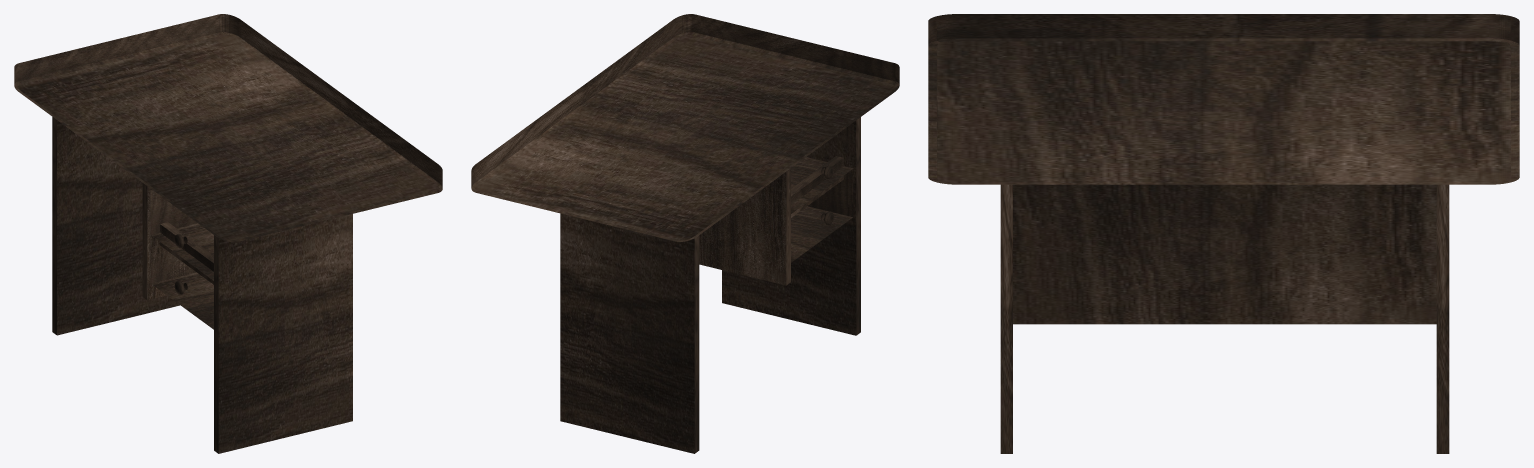
3 views of the same model, side by side, from view 1: azimuth 30°, elevation 25°; view 2: azimuth 150°, elevation 25°; view 3: azimuth 270°, elevation 25° (orthographic). The views are drawn at different scales.
Parts seen in each view (by area): view 1: Cube.014; view 2: Cube.014; view 3: Cube.014.
Part boxes in pixels (x1=…): Cube.014: x1=14, y1=14, x2=442, y2=453; Cube.014: x1=471, y1=14, x2=899, y2=453; Cube.014: x1=928, y1=14, x2=1519, y2=453.
Size of the model in its own units: 2 by 2.17 by 3.42.
2 materials, 1 textured.
